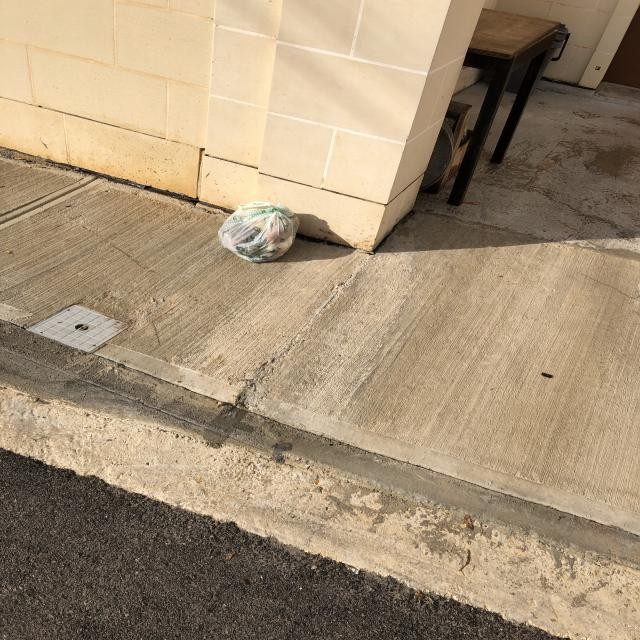Organic Waste -White Bag-: (215, 200, 307, 267)
